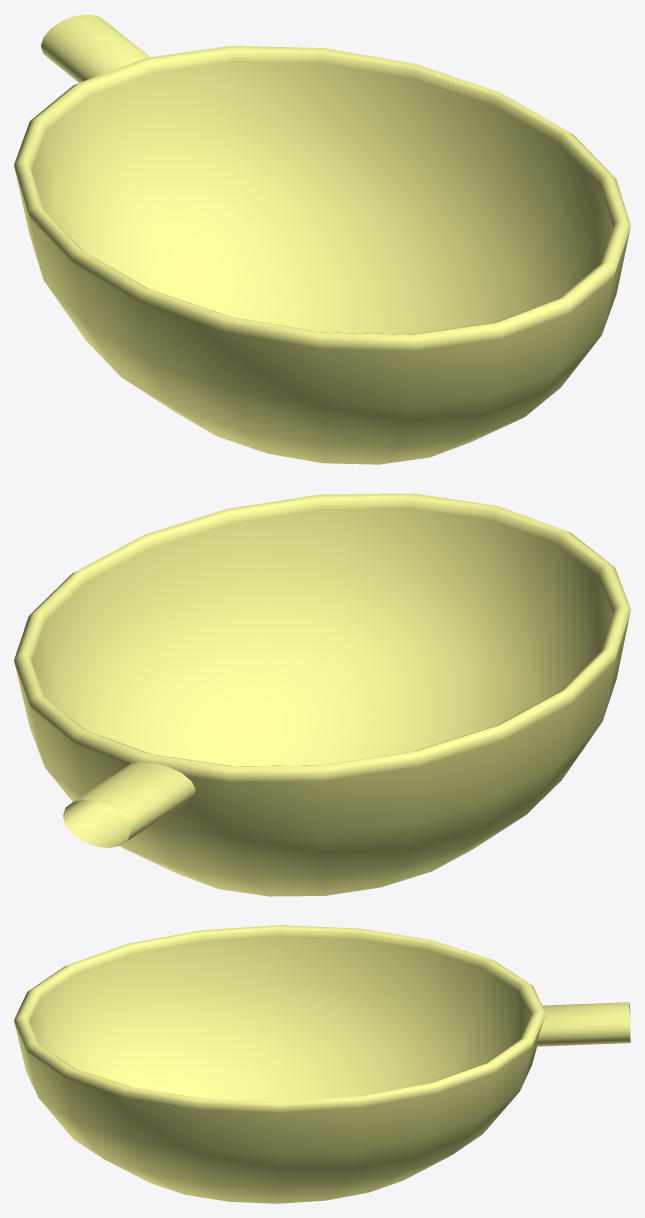
File: Ladle_2_1.obj
3 renders of one model, top to bottom at view 1: azimuth 30°, elevation 25°; view 2: azimuth 150°, elevation 25°; view 3: azimuth 270°, elevation 25°, orthographic. The views are drawn at different scales.
Size of the model in its own units: 0.0794 by 0.0352 by 0.1144.
